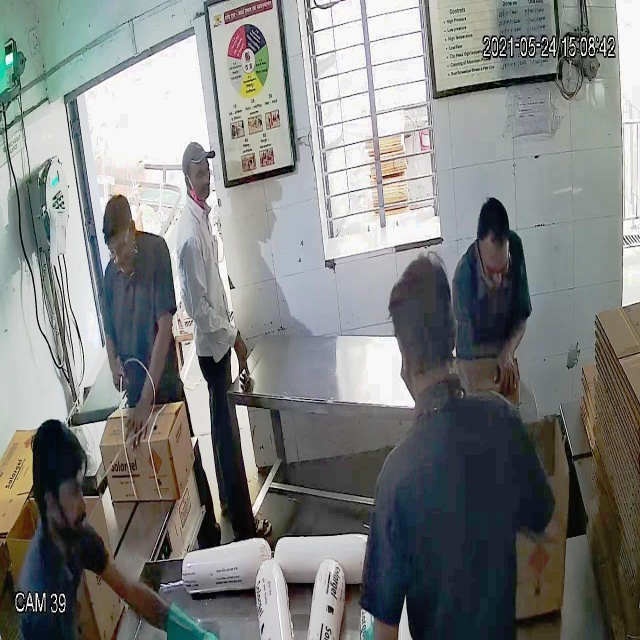Gafas: (100, 227, 133, 265)
Sin_gafas: (181, 159, 213, 186)
